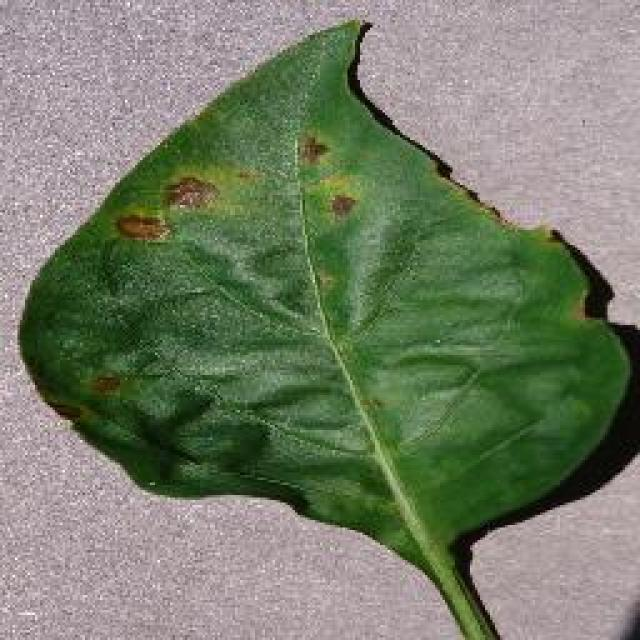Chilli_Bacterial_Spot: (12, 15, 638, 567), (107, 128, 365, 250), (292, 127, 362, 225), (305, 170, 363, 225), (160, 173, 220, 215), (110, 210, 172, 248), (295, 130, 333, 170), (322, 188, 360, 222), (85, 368, 125, 400), (230, 162, 265, 190)
